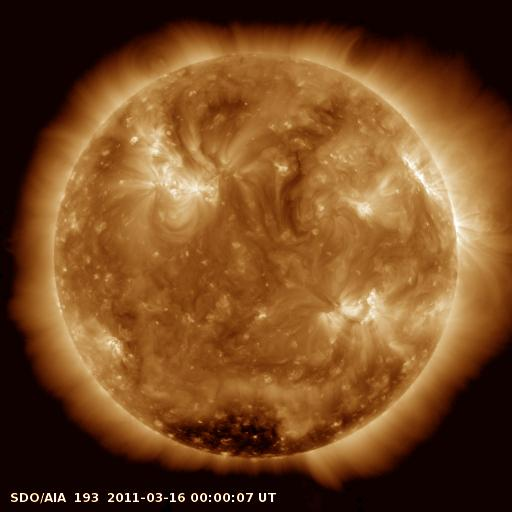coronal_hole: (152, 378, 398, 463)
